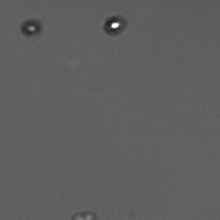Living Cell: (103, 15, 127, 35), (22, 18, 41, 36)
